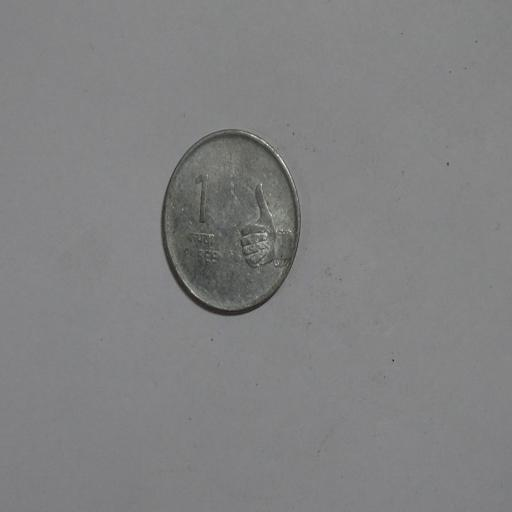rupee1: (158, 125, 306, 321)
